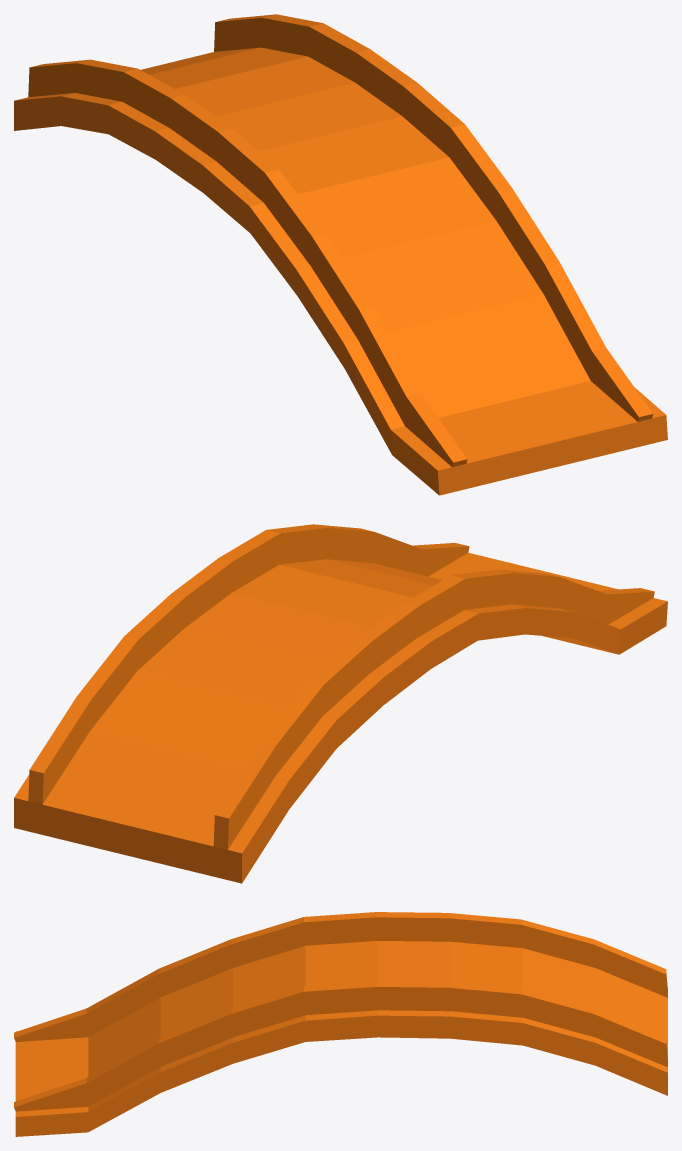
File: MemorialRoom_Bridge.fbx
The picture shows the model from 3 angles, top to bottom: view 1: azimuth 30°, elevation 25°; view 2: azimuth 150°, elevation 25°; view 3: azimuth 270°, elevation 25°; orthographic projection. The views are drawn at different scales.
Parts seen in each view (by area): view 1: Bridge; view 2: Bridge; view 3: Bridge.
Part boxes in pixels (x1,y1,x2,y2): Bridge: (14,14,667,495); Bridge: (14,524,667,883); Bridge: (14,912,667,1136).
Size of the model in its own units: 2643 by 2068 by 8483.
